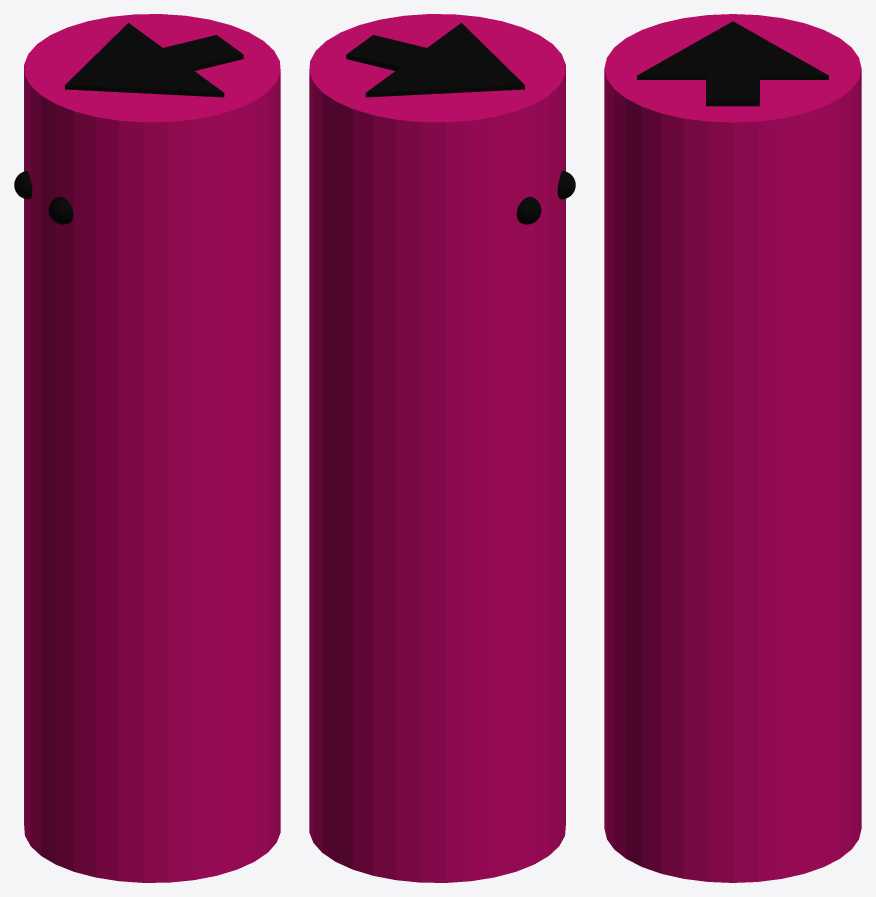
3 views of the same model, side by side, from view 1: azimuth 30°, elevation 25°; view 2: azimuth 150°, elevation 25°; view 3: azimuth 270°, elevation 25° (orthographic).
Parts seen in each view (by area): view 1: Cylinder_Cylinder_Material.004, Cylinder_Cylinder_SVGMat; view 2: Cylinder_Cylinder_Material.004, Cylinder_Cylinder_SVGMat; view 3: Cylinder_Cylinder_Material.004, Cylinder_Cylinder_SVGMat.
Boxes of the visible parts, x1,y1,x2,y2 form: Cylinder_Cylinder_Material.004: (24,14,280,882); Cylinder_Cylinder_SVGMat: (14,23,243,224); Cylinder_Cylinder_Material.004: (309,14,565,882); Cylinder_Cylinder_SVGMat: (346,23,575,224); Cylinder_Cylinder_Material.004: (604,14,861,882); Cylinder_Cylinder_SVGMat: (637,21,828,106).
Size of the model in its own units: 0.1612 by 0.5117 by 0.1559.
